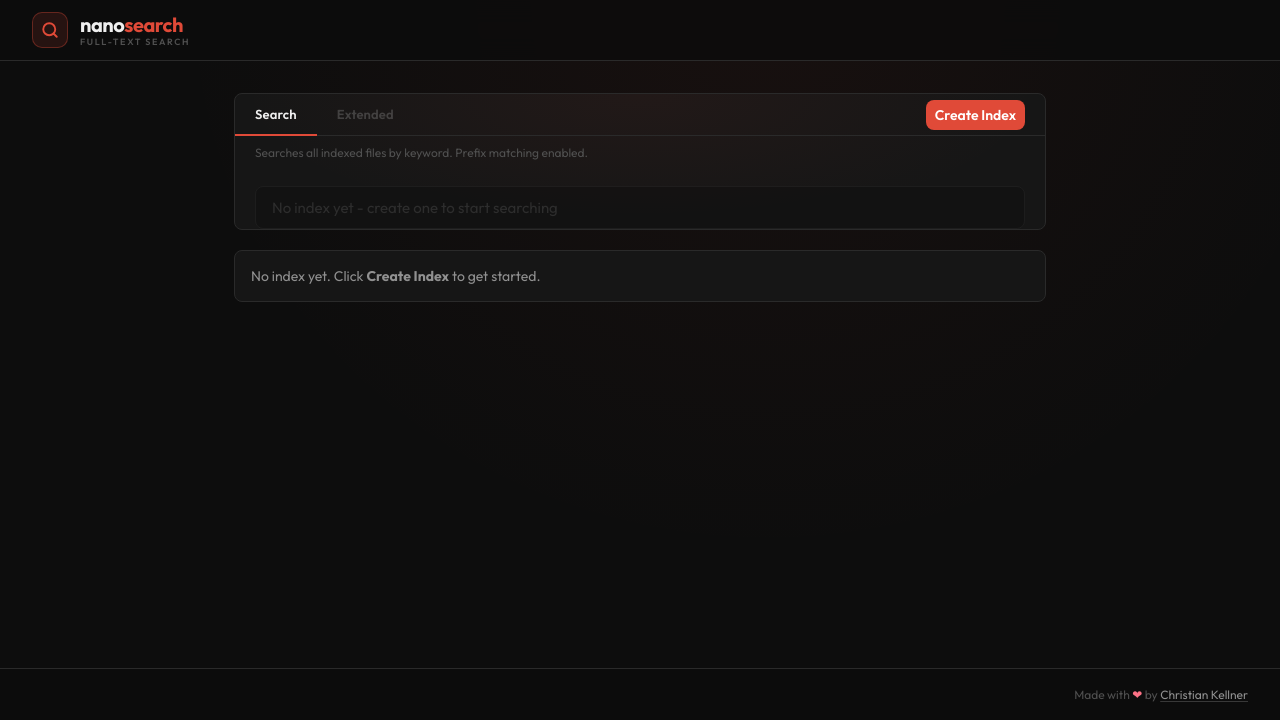
App › enters indexing state when index button is clicked
Click the button "Create Index": (975, 114) [926, 100, 1025, 130]
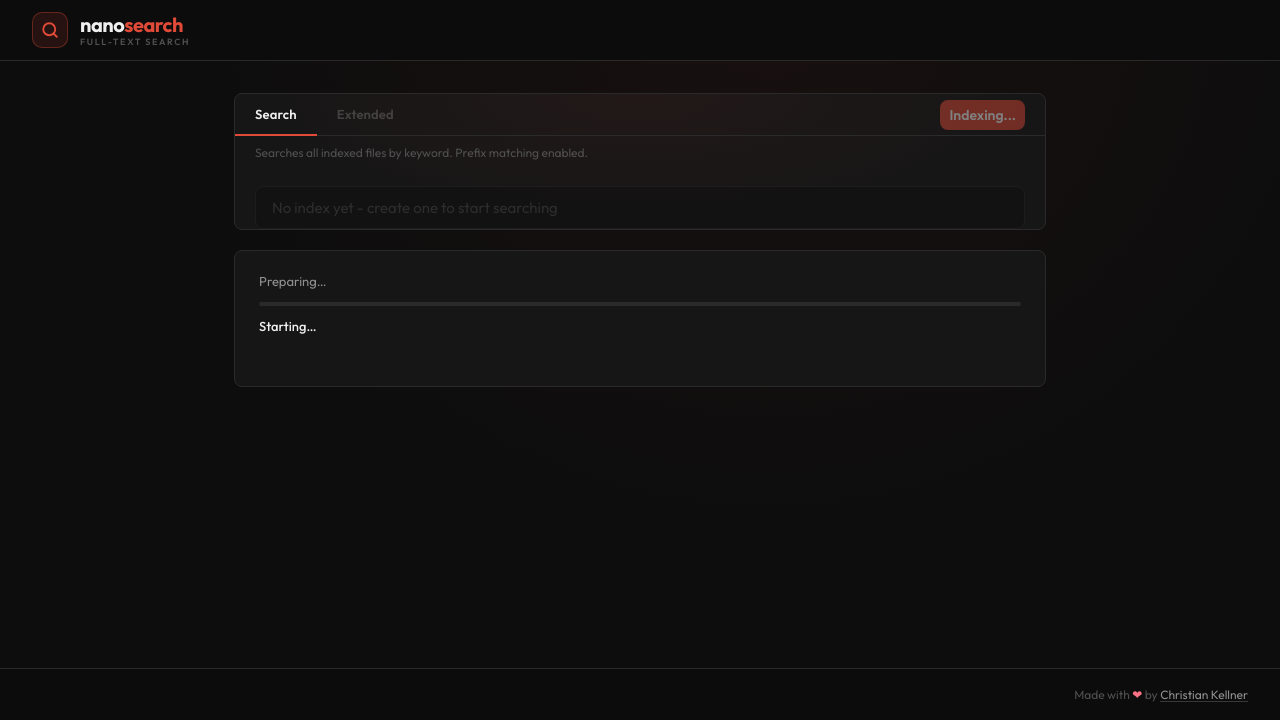
Check: the button "Indexing..." is disabled, box [940, 100, 1025, 130]
